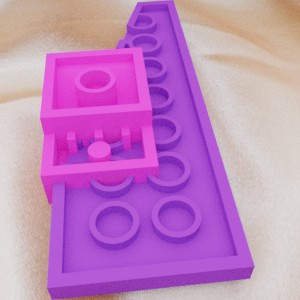lego: (46, 0, 254, 300), (39, 47, 158, 204)
